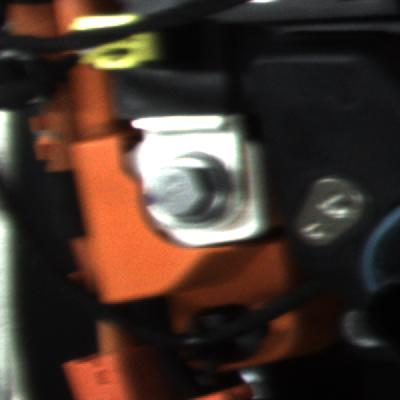nut_b: (146, 149, 240, 228)
